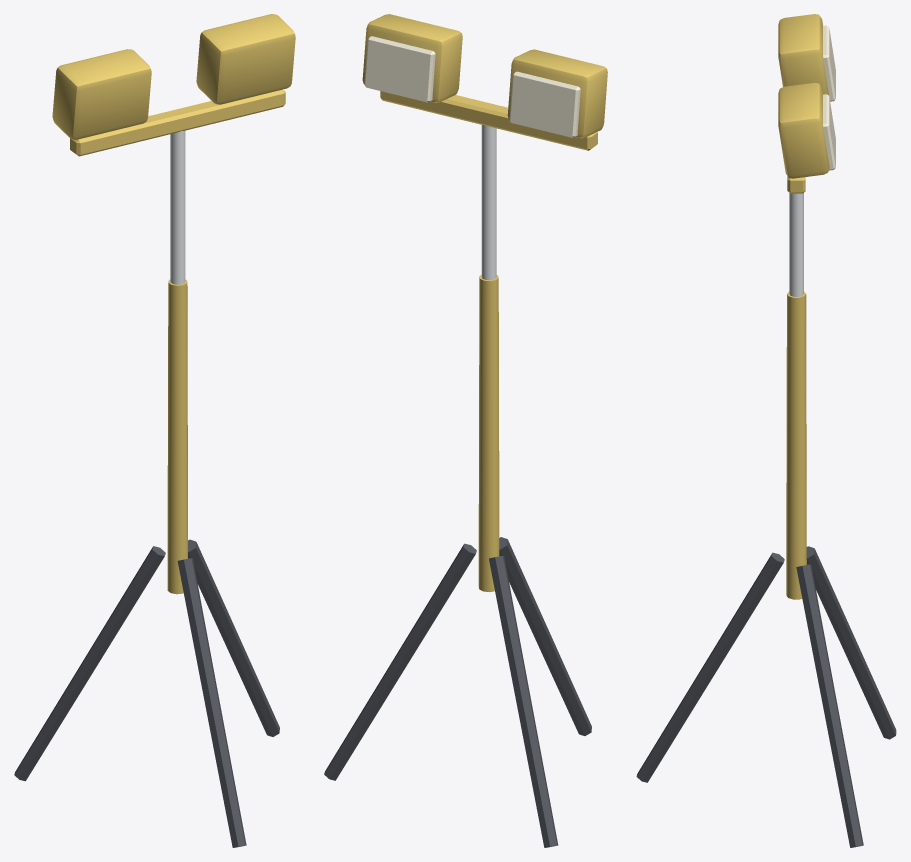
File: Work_FloodLight.fbx
The picture shows the model from 3 angles, left to right: view 1: azimuth 30°, elevation 25°; view 2: azimuth 150°, elevation 25°; view 3: azimuth 270°, elevation 25°; orthographic projection. The views are drawn at different scales.
Visible parts, largest first — view 1: Work_FloodLight; view 2: Work_FloodLight; view 3: Work_FloodLight.
Boxes of the visible parts, x1=… form: Work_FloodLight: x1=14, y1=14, x2=295, y2=847; Work_FloodLight: x1=324, y1=14, x2=607, y2=847; Work_FloodLight: x1=636, y1=14, x2=896, y2=847.
Size of the model in its own units: 0.758 by 2.16 by 0.7035.
